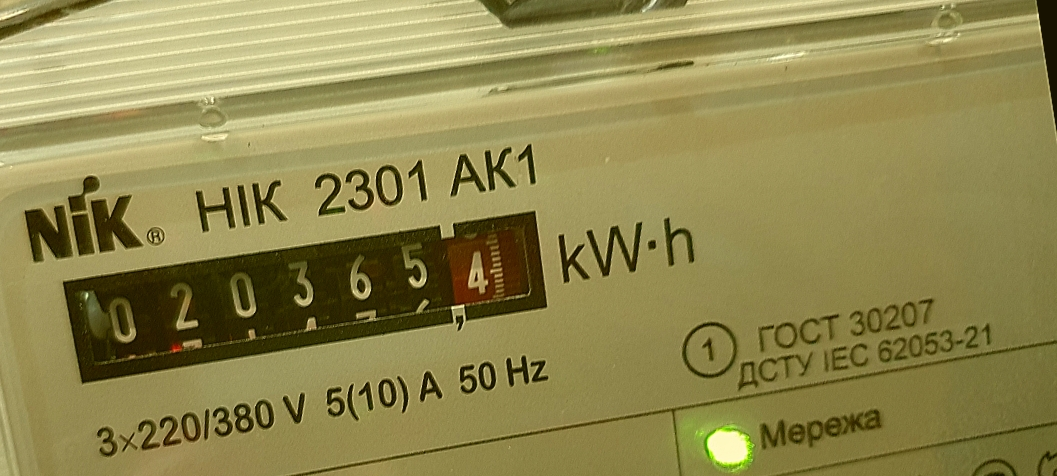0: (101, 289, 142, 348), (225, 267, 262, 321)
2: (164, 277, 202, 332)
3: (283, 257, 319, 310)
4: (460, 245, 490, 297)
5: (399, 240, 432, 290)
6: (342, 249, 375, 302)
screen: (46, 189, 569, 401)
